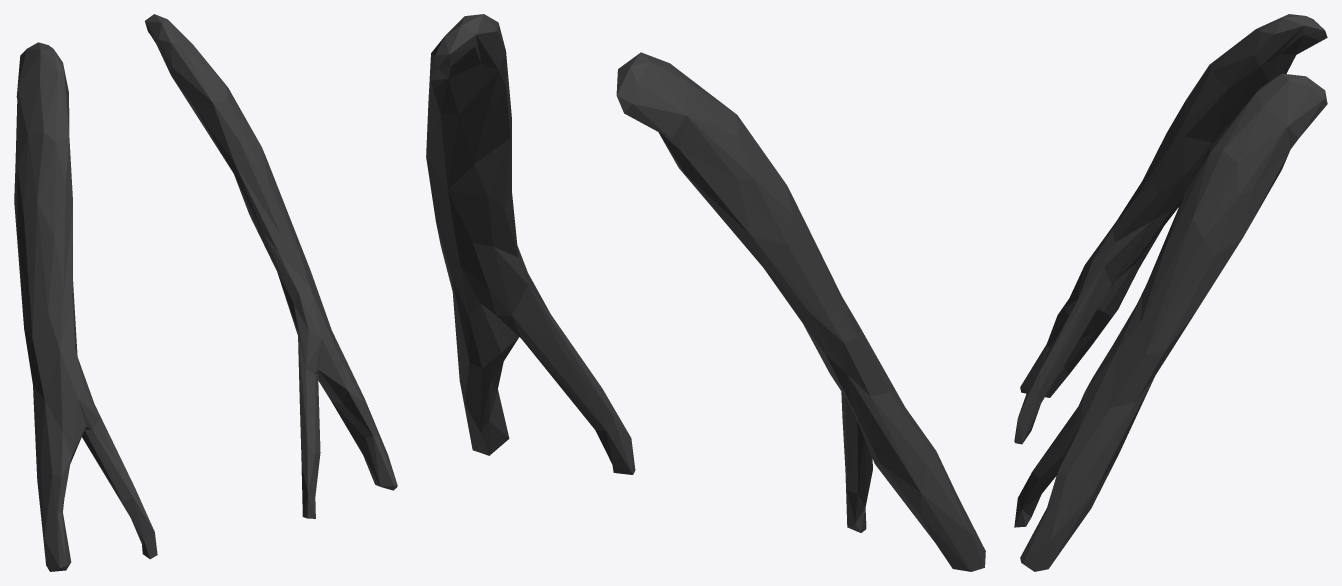
The model's file is m_supraspinatus.glb.
3 renders of one model, left to right at view 1: azimuth 30°, elevation 25°; view 2: azimuth 150°, elevation 25°; view 3: azimuth 270°, elevation 25°, orthographic. The views are drawn at different scales.
Parts seen in each view (by area): view 1: m_supraspinatus; view 2: m_supraspinatus; view 3: m_supraspinatus.
Part boxes in pixels (x1,y1,x2,y2): m_supraspinatus: (14,14,397,571); m_supraspinatus: (426,14,985,571); m_supraspinatus: (1014,14,1327,571).
Size of the model in its own units: 0.00605 by 0.00685 by 0.00444.
Materials: 1 (1 with a texture image).
